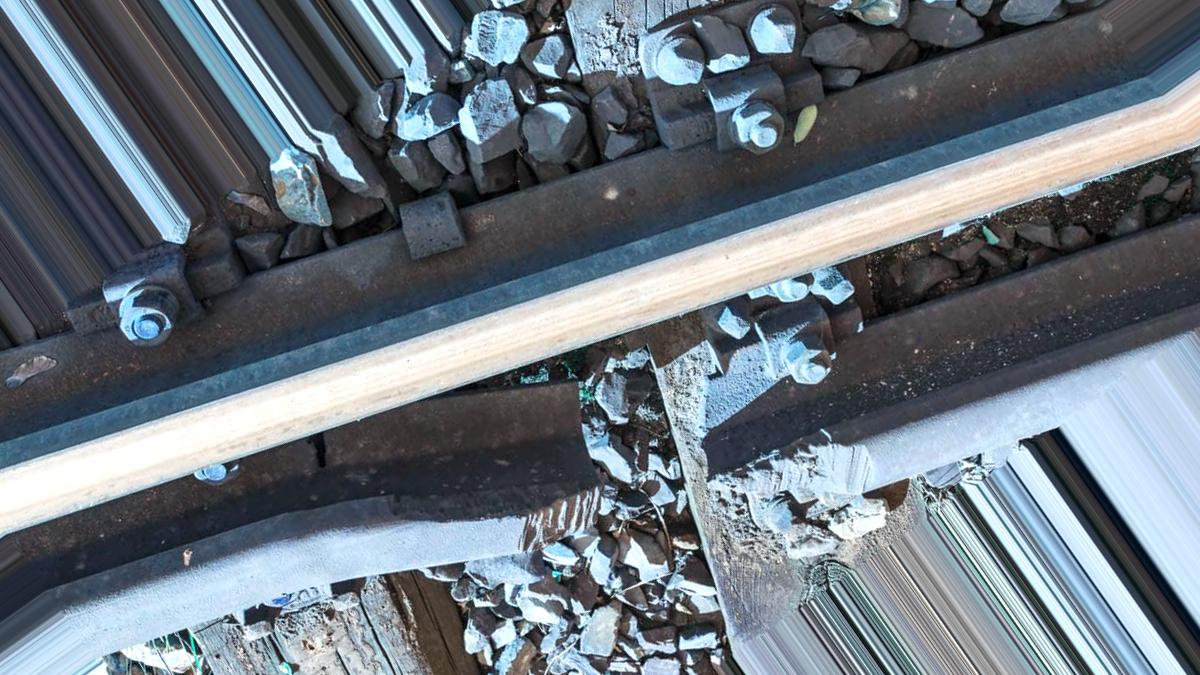tracks_fault: (440, 363, 798, 597)
